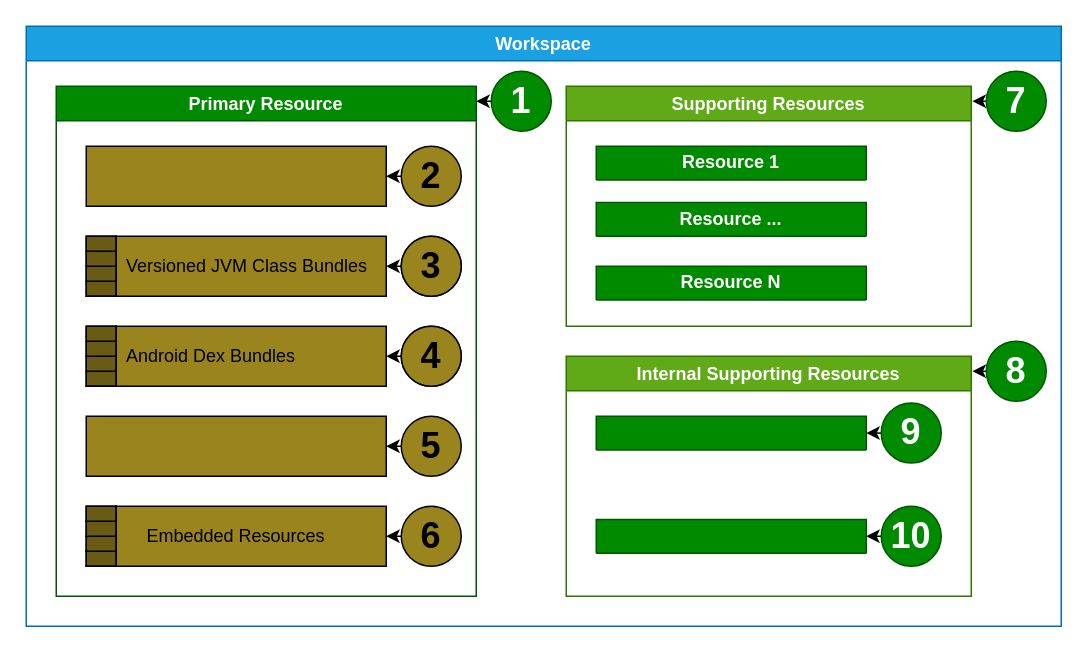
Image size: 1088x653. Some labels were removed from this diagram. The shapes that lost their labels are listed below. From the top down, each one's centre as x and y in pixels, then its label:
the point at 235,175: JVM Class Bundle
the point at 235,445: File Bundle
the point at 730,432: Runtime Resource
the point at 730,535: Phantom Resource
